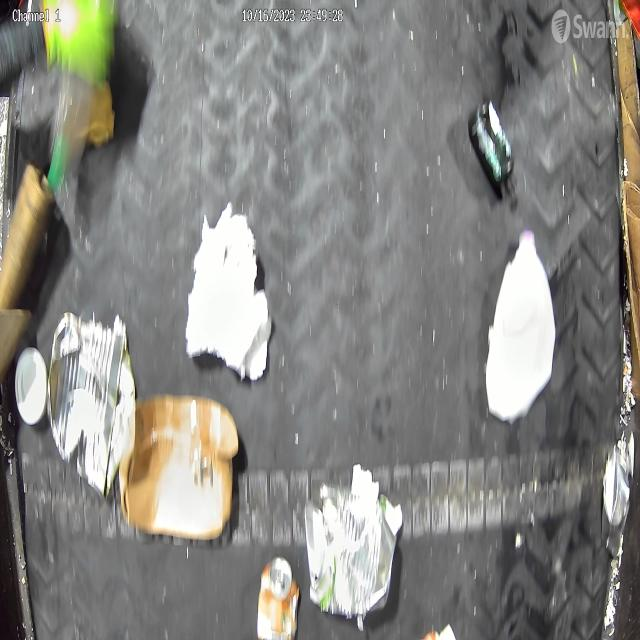can: (47, 313, 125, 496), (255, 554, 300, 638)
milk_jug: (484, 229, 557, 426)
non_white_jug: (119, 393, 240, 539)
